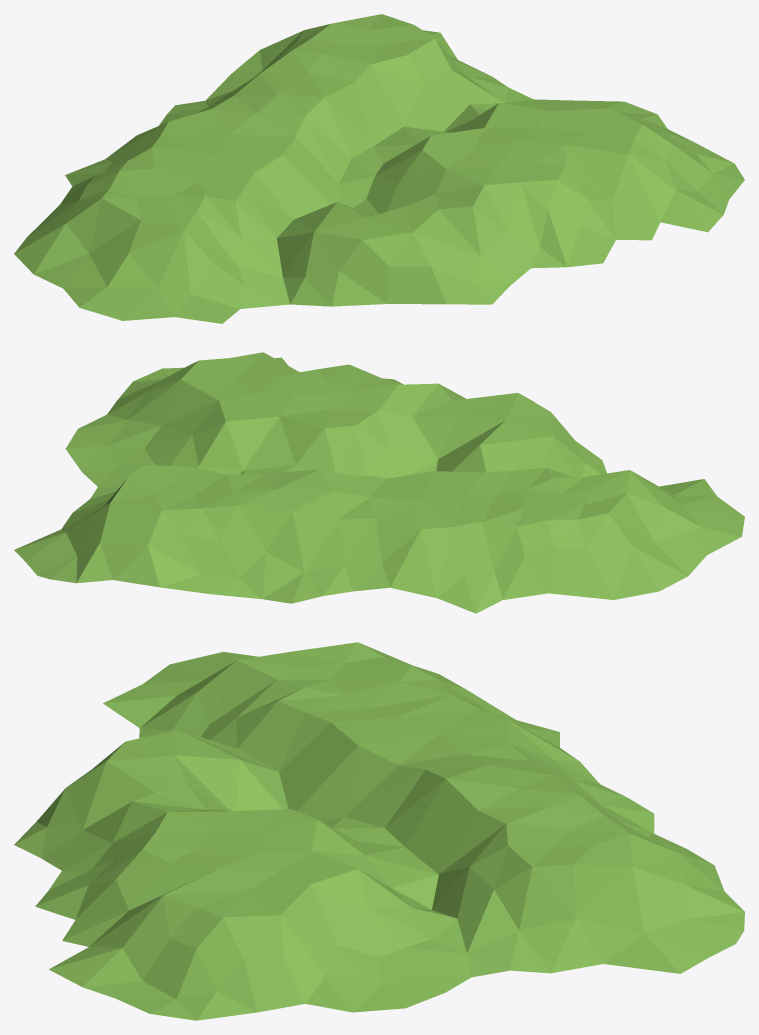
The model's file is MT_Mountain_L_b_07_LOD.fbx.
3 views of the same model, one above another, from view 1: azimuth 30°, elevation 25°; view 2: azimuth 150°, elevation 25°; view 3: azimuth 270°, elevation 25° (orthographic). The views are drawn at different scales.
Visible parts, largest first — view 1: MT_Mountain_L_b_07_LOD0; view 2: MT_Mountain_L_b_07_LOD0; view 3: MT_Mountain_L_b_07_LOD0.
Boxes of the visible parts, <box> form: MT_Mountain_L_b_07_LOD0: <box>14,14,744,323</box>; MT_Mountain_L_b_07_LOD0: <box>14,352,744,613</box>; MT_Mountain_L_b_07_LOD0: <box>14,642,744,1020</box>.
Size of what is drawn, in the model's own units: 5000 by 514 by 4244.
